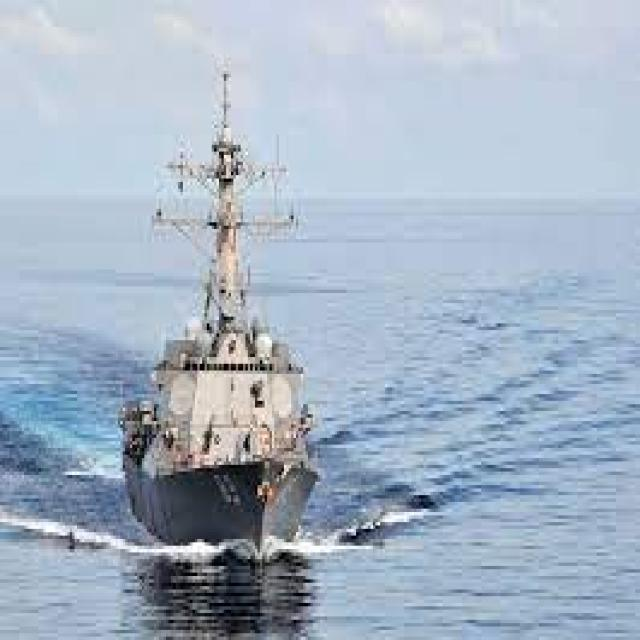navalvessels: (122, 63, 332, 563)
